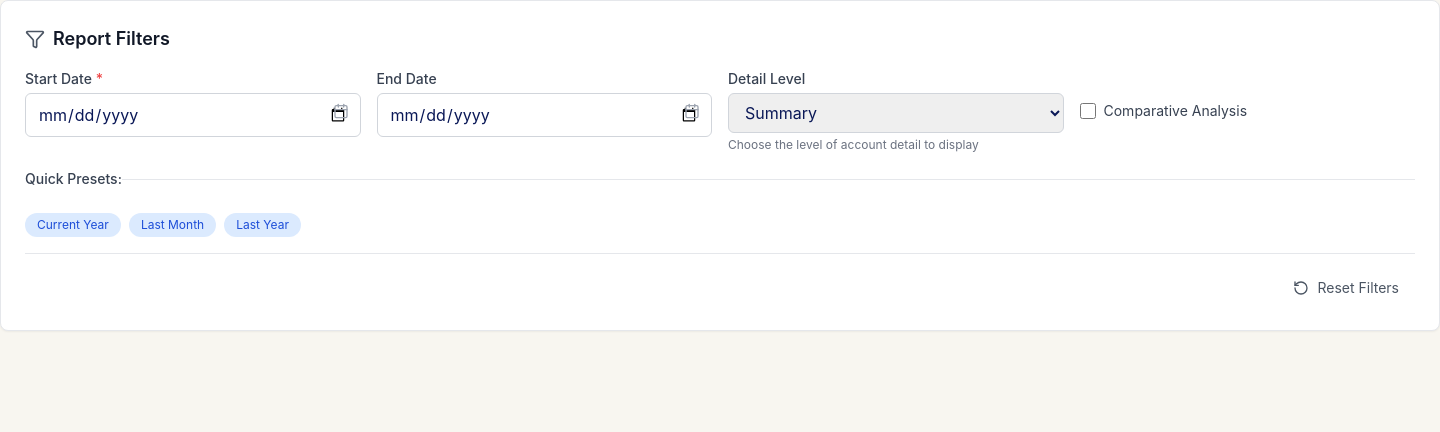
Test: ReportFilters › shows comparative date field when comparative is enabled
Expected: the field labelled "prior period start" is not shown
Click the checkbox labelled "Comparative Analysis".
click(1088, 111)  # box left=1080, top=103, right=1096, bottom=119
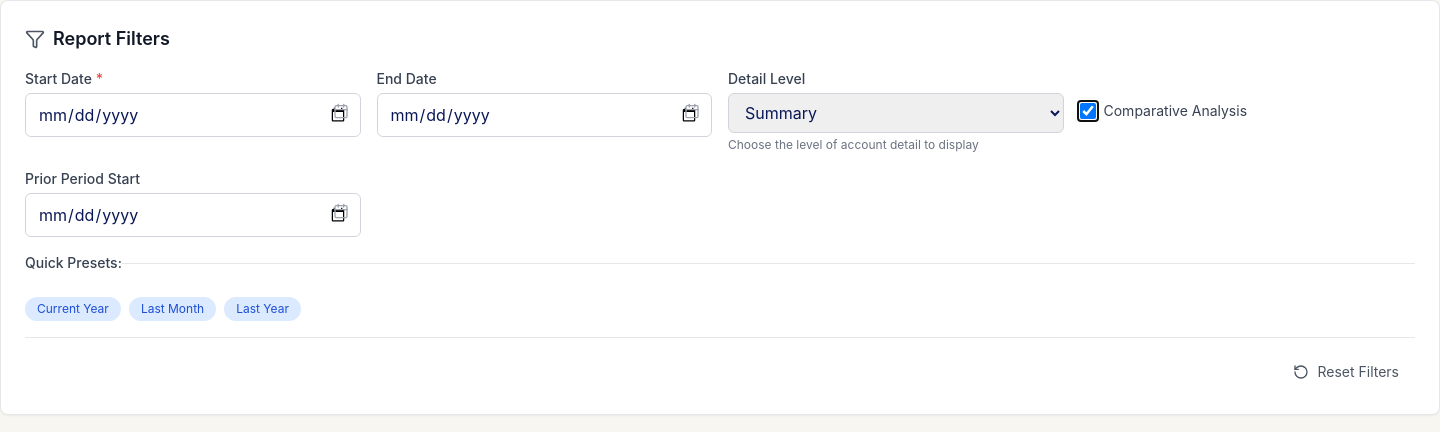
Result: the date field labelled "Prior Period Start" is shown at left=25, top=193, right=360, bottom=237
